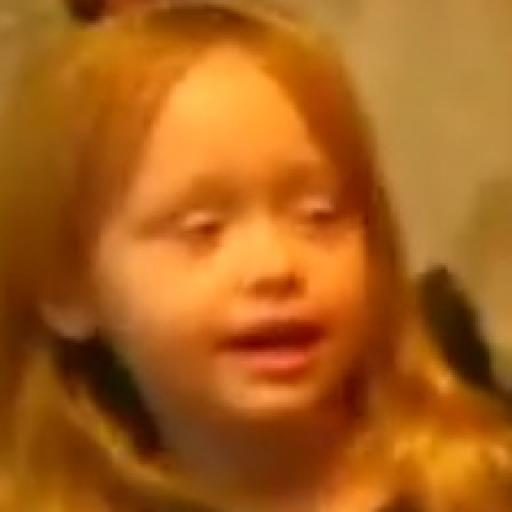Autism: (44, 18, 478, 474)
